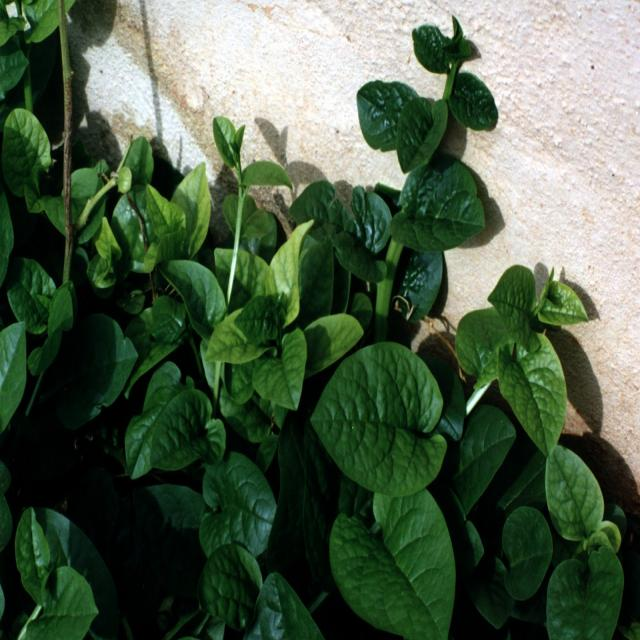Medicinal-Basale: (127, 11, 627, 640), (0, 9, 111, 640)
